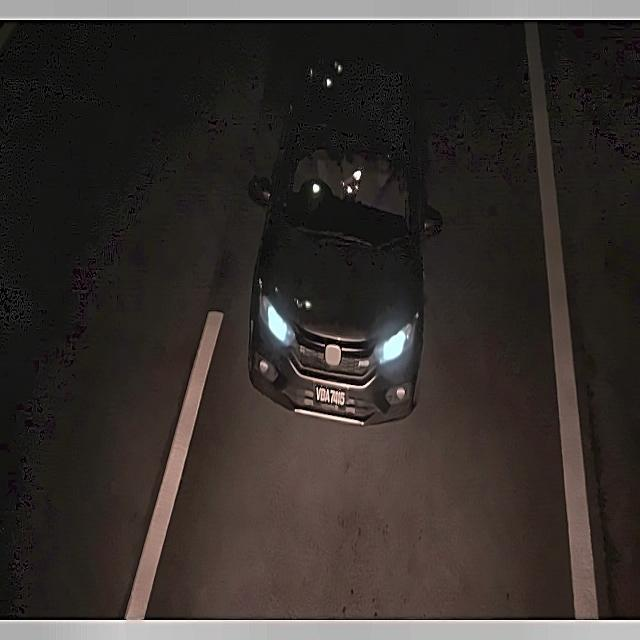car: (311, 378, 349, 415)
